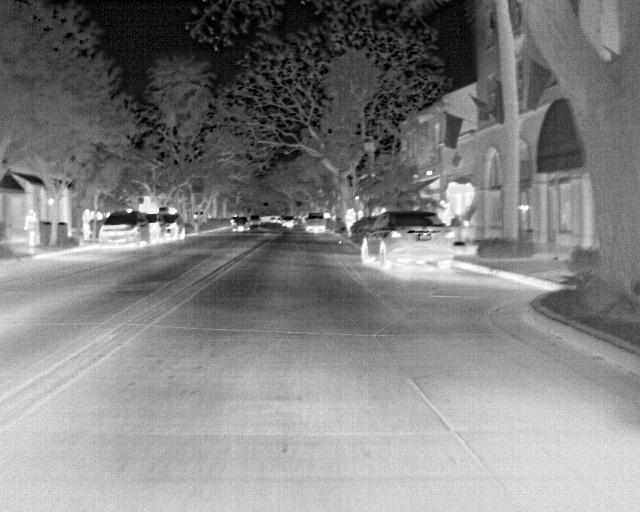bicycle: (358, 209, 453, 267), (95, 210, 149, 248), (301, 210, 329, 234), (161, 213, 184, 241), (142, 212, 163, 241), (229, 216, 251, 235), (282, 216, 298, 230), (250, 212, 264, 228)
empty: (22, 207, 39, 249), (79, 207, 95, 239), (344, 207, 357, 238)
